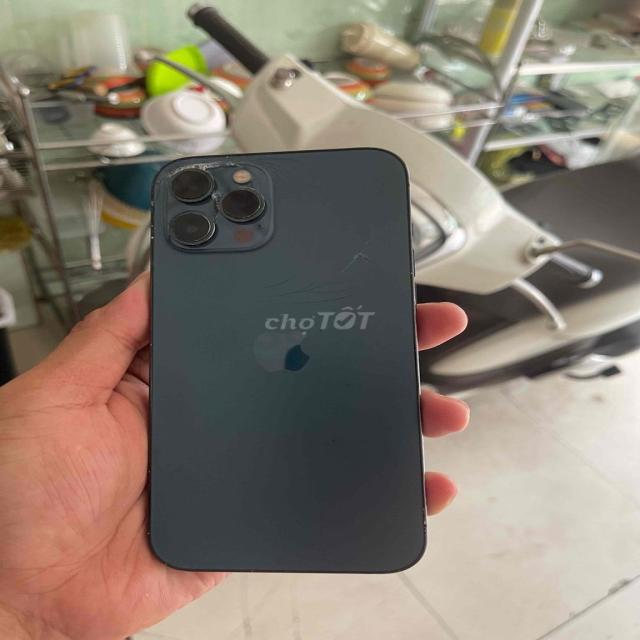gen_12_13: (140, 138, 445, 584)
